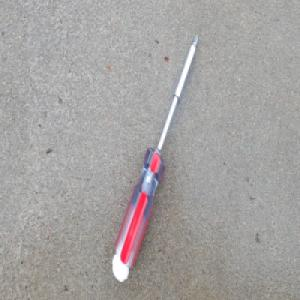Screwdriver: (110, 32, 199, 284)
